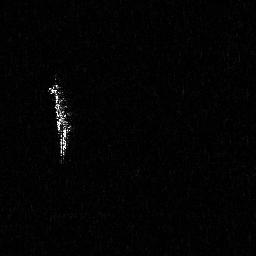ship: (48, 78, 73, 167)
